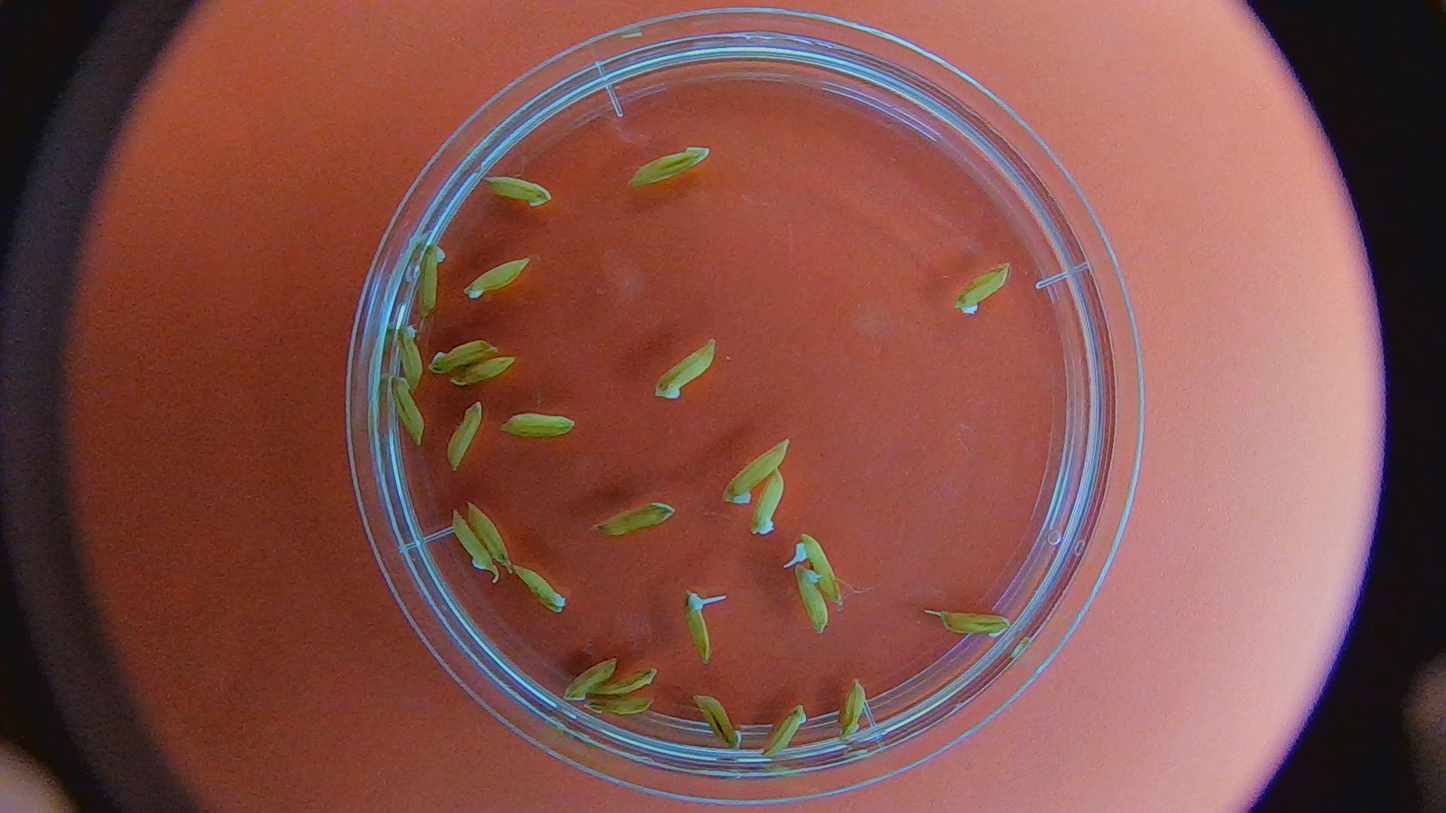no: (651, 339, 723, 401), (460, 497, 514, 570), (725, 443, 789, 502), (627, 144, 709, 188), (952, 260, 1013, 318), (387, 372, 432, 450), (479, 164, 553, 211), (447, 506, 497, 575), (508, 561, 565, 618), (413, 234, 447, 323), (691, 695, 743, 753), (764, 704, 810, 766), (446, 400, 484, 475), (462, 256, 524, 301), (749, 470, 788, 538), (590, 504, 670, 537), (561, 656, 617, 703), (936, 604, 1011, 639), (391, 321, 426, 393), (425, 339, 501, 370), (798, 562, 831, 633), (449, 353, 515, 388), (501, 413, 575, 443), (595, 665, 660, 699), (835, 677, 868, 738), (581, 694, 657, 717)
yes: (805, 528, 848, 601), (679, 593, 714, 670)
